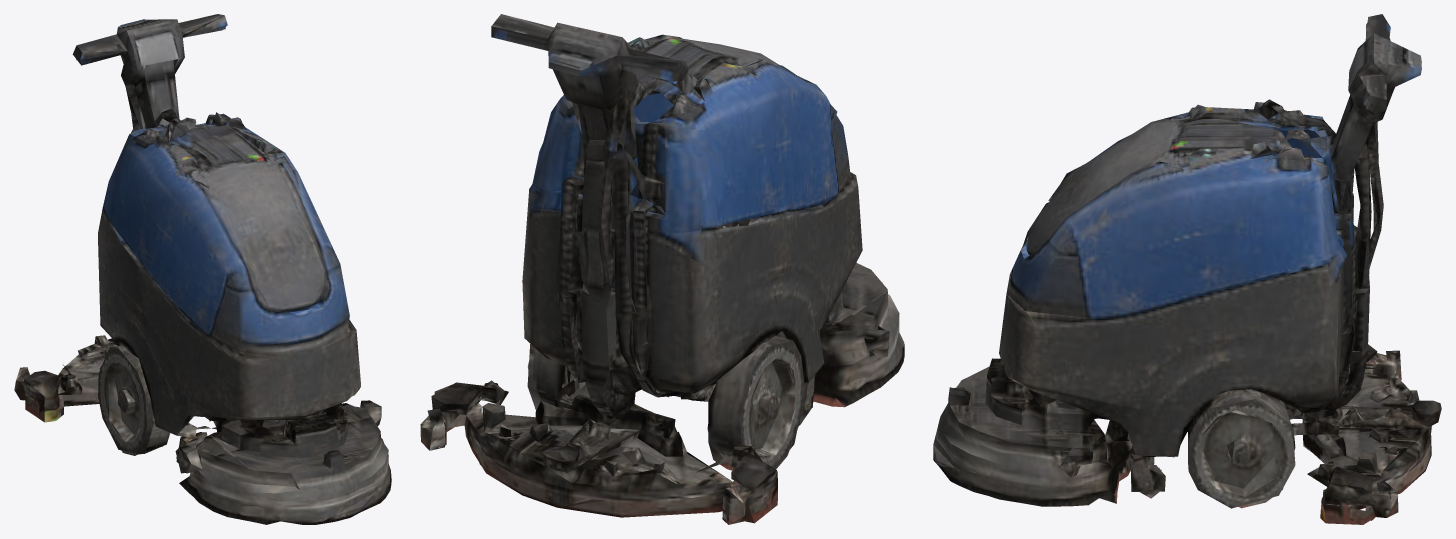
The model's file is p7-floor-scrubber.glb.
3 renders of one model, left to right at view 1: azimuth 30°, elevation 25°; view 2: azimuth 150°, elevation 25°; view 3: azimuth 270°, elevation 25°, orthographic. The views are drawn at different scales.
Parts seen in each view (by area): view 1: p7-floor-scrubber; view 2: p7-floor-scrubber; view 3: p7-floor-scrubber.
Part boxes in pixels (x1,y1,x2,y2): p7-floor-scrubber: [14, 14, 391, 524]; p7-floor-scrubber: [420, 14, 904, 524]; p7-floor-scrubber: [933, 14, 1441, 524].
Bounding box in the file's own units: 0.8222 × 1.1 × 1.2.
1 material, 1 textured.
